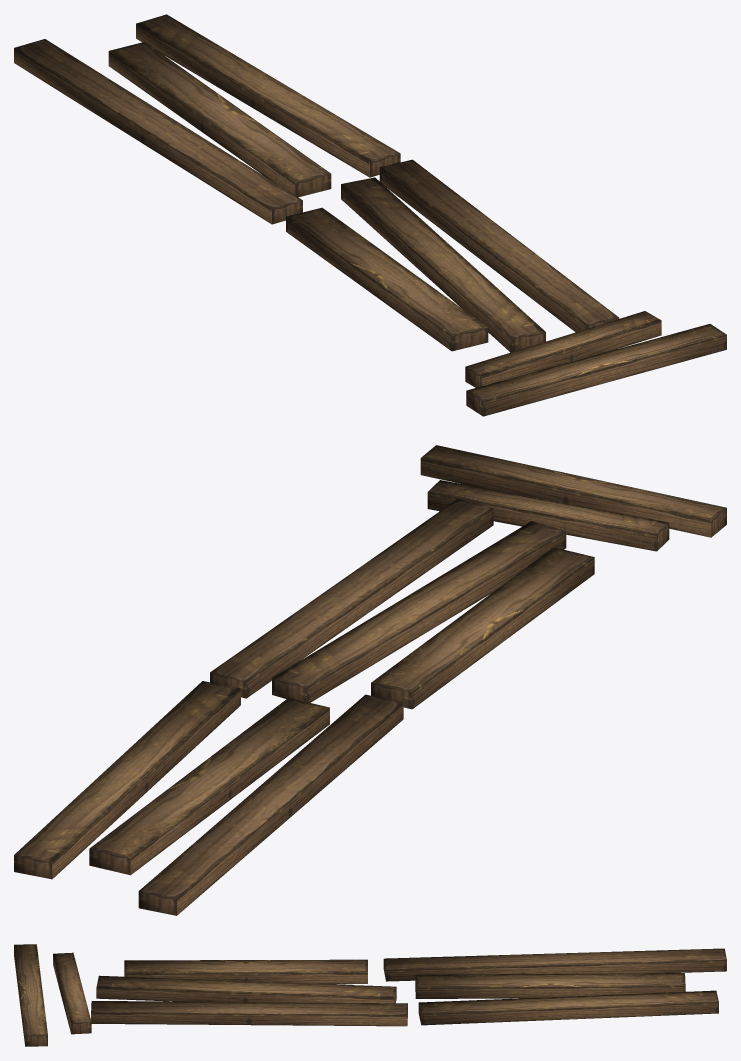
The model's file is Plank_06.fbx.
3 renders of one model, top to bottom at view 1: azimuth 30°, elevation 25°; view 2: azimuth 150°, elevation 25°; view 3: azimuth 270°, elevation 25°, orthographic. The views are drawn at different scales.
Visible parts, largest first — view 1: Plank_06; view 2: Plank_06; view 3: Plank_06.
Boxes of the visible parts, bbox=[...] form: Plank_06: bbox=[14, 14, 726, 416]; Plank_06: bbox=[14, 445, 726, 915]; Plank_06: bbox=[14, 944, 726, 1046].
Bounding box in the file's own units: 0.6684 × 0.0381 × 2.2.
